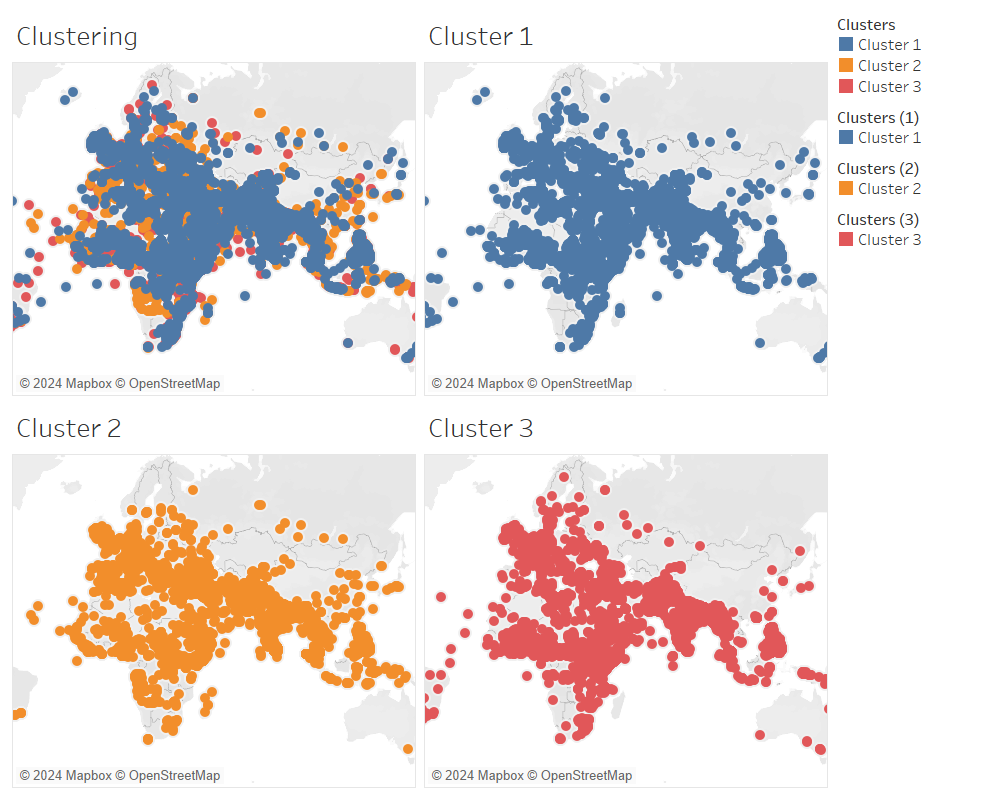

Layout of this report page (visuals, bound fields, positions):
{"tool":"tableau","page":{"name":"Dashboard 1","canvas":[1000,800],"ordinal":0},"visuals":[{"type":"worksheet","title":"Sheet 1","mark":"Automatic","rows":["latitude"],"cols":["longitude"],"box":[8,8,412,392]},{"type":"worksheet","title":"Sheet 1 (2)","mark":"Automatic","rows":["latitude"],"cols":["longitude"],"box":[420,8,412,392]},{"type":"legend","title":"Sheet 1","param":"[federated.0a733a2030vf771dsmdgn07bqao2].[none:AdhocCluster:1:ok]","box":[832,8,160,93]},{"type":"legend","title":"Sheet 1 (2)","param":"[federated.0a733a2030vf771dsmdgn07bqao2].[none:AdhocCluster:2:ok]","box":[832,101,160,51]},{"type":"legend","title":"Sheet 1 (3)","param":"[federated.0a733a2030vf771dsmdgn07bqao2].[none:AdhocCluster:3:ok]","box":[832,152,160,51]},{"type":"legend","title":"Sheet 1 (4)","param":"[federated.0a733a2030vf771dsmdgn07bqao2].[none:AdhocCluster:4:ok]","box":[832,203,160,51]},{"type":"worksheet","title":"Sheet 1 (3)","mark":"Automatic","rows":["latitude"],"cols":["longitude"],"box":[8,400,412,392]},{"type":"worksheet","title":"Sheet 1 (4)","mark":"Automatic","rows":["latitude"],"cols":["longitude"],"box":[420,400,412,392]}]}

Visuals, with their boxes in screenshot pixels (x1, y1, x2, y2), scaled from the page's 1000x800 canvas onto the 1000x800 screenshot:
"Sheet 1" worksheet: Rect(8, 8, 420, 400)
"Sheet 1 (2)" worksheet: Rect(420, 8, 832, 400)
"Sheet 1" legend: Rect(832, 8, 992, 101)
"Sheet 1 (2)" legend: Rect(832, 101, 992, 152)
"Sheet 1 (3)" legend: Rect(832, 152, 992, 203)
"Sheet 1 (4)" legend: Rect(832, 203, 992, 254)
"Sheet 1 (3)" worksheet: Rect(8, 400, 420, 792)
"Sheet 1 (4)" worksheet: Rect(420, 400, 832, 792)
